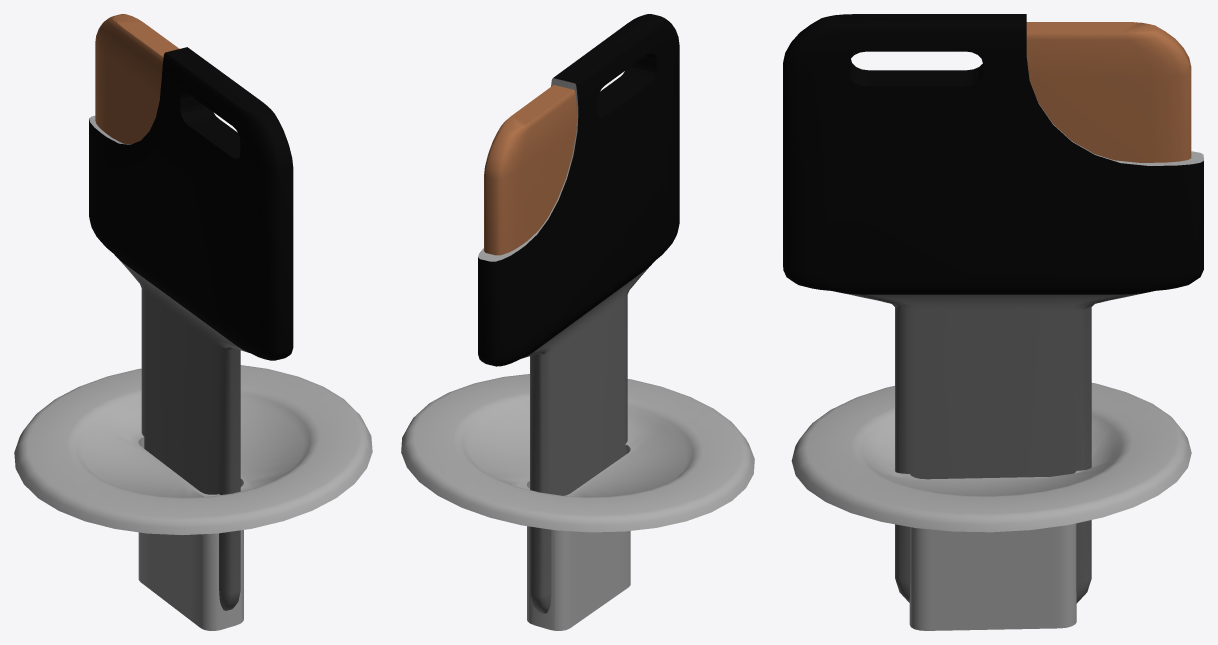
The model's file is 钥匙指针.fbx.
3 renders of one model, left to right at view 1: azimuth 30°, elevation 25°; view 2: azimuth 150°, elevation 25°; view 3: azimuth 270°, elevation 25°, orthographic. The views are drawn at different scales.
Parts seen in each view (by area): view 1: Circle.001; view 2: Circle.001; view 3: Circle.001.
Boxes of the visible parts, left/top/right/bottom form: Circle.001: left=14, top=14, right=372, bottom=630; Circle.001: left=401, top=14, right=754, bottom=630; Circle.001: left=783, top=14, right=1203, bottom=630.
Size of the model in its own units: 11.8 by 19.62 by 12.43.
